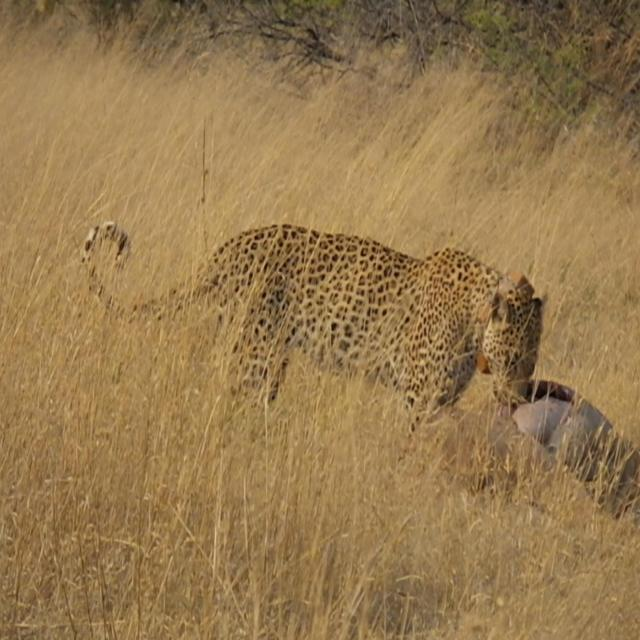Leopard: (77, 220, 558, 452)
